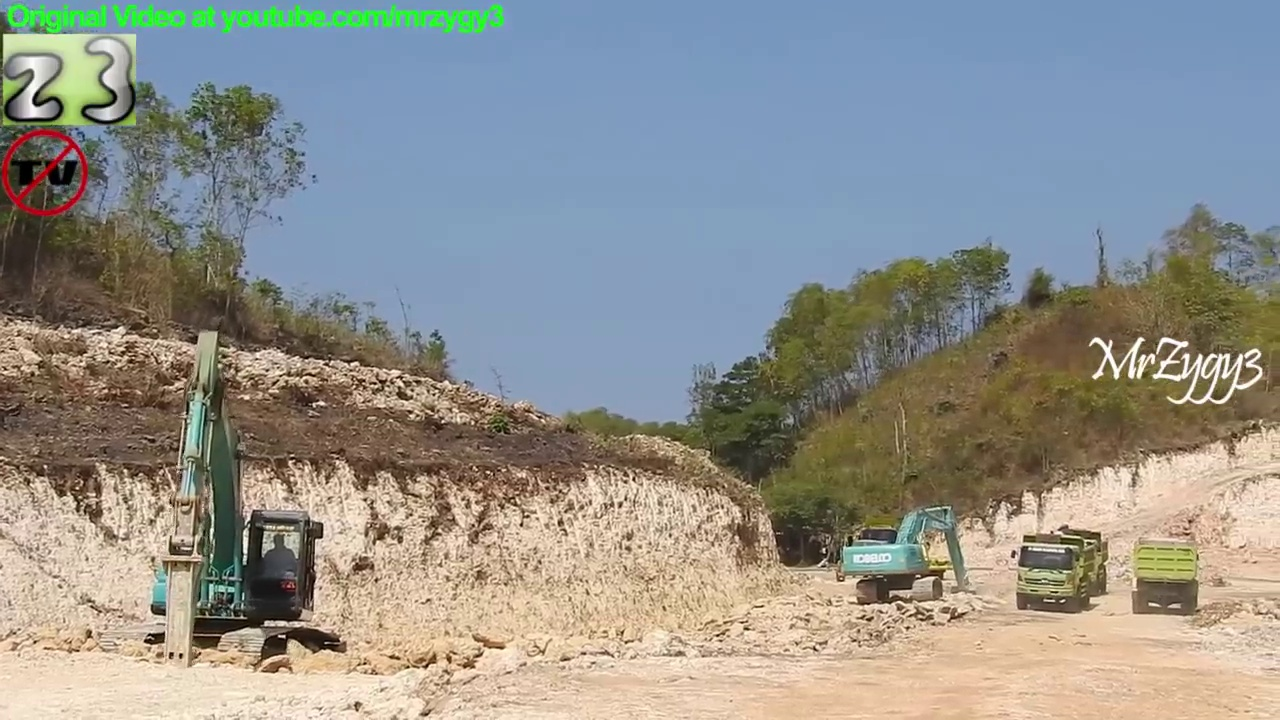excavator: (836, 502, 978, 609)
excavator breaker: (96, 323, 354, 682)
truck: (1006, 531, 1103, 616), (1023, 524, 1117, 602), (1127, 534, 1205, 621)
